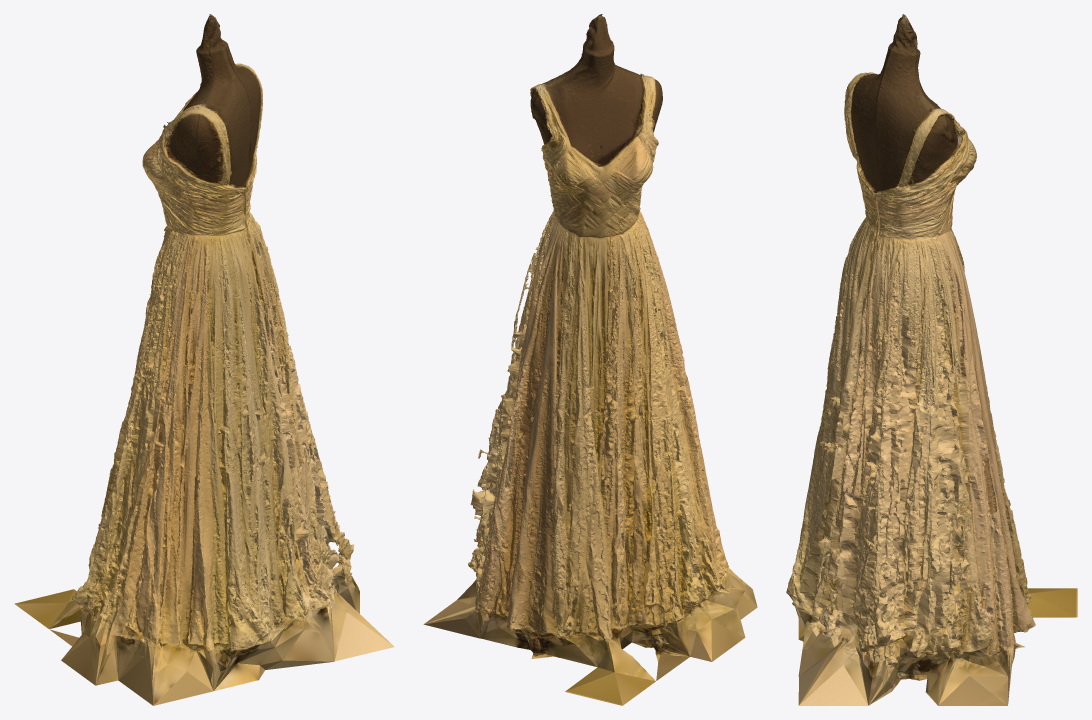
File: dr-2026-118-detail.glb
3 views of the same model, side by side, from view 1: azimuth 30°, elevation 25°; view 2: azimuth 150°, elevation 25°; view 3: azimuth 270°, elevation 25° (orthographic). The views are drawn at different scales.
Visible parts, largest first — view 1: mesh; view 2: mesh; view 3: mesh.
Part boxes in pixels (bbox=[...]): mesh: bbox=[14, 14, 394, 705]; mesh: bbox=[423, 14, 757, 705]; mesh: bbox=[786, 14, 1077, 705].
Bounding box in the file's own units: 20.38 × 46.13 × 19.32.
1 material, 1 textured.
